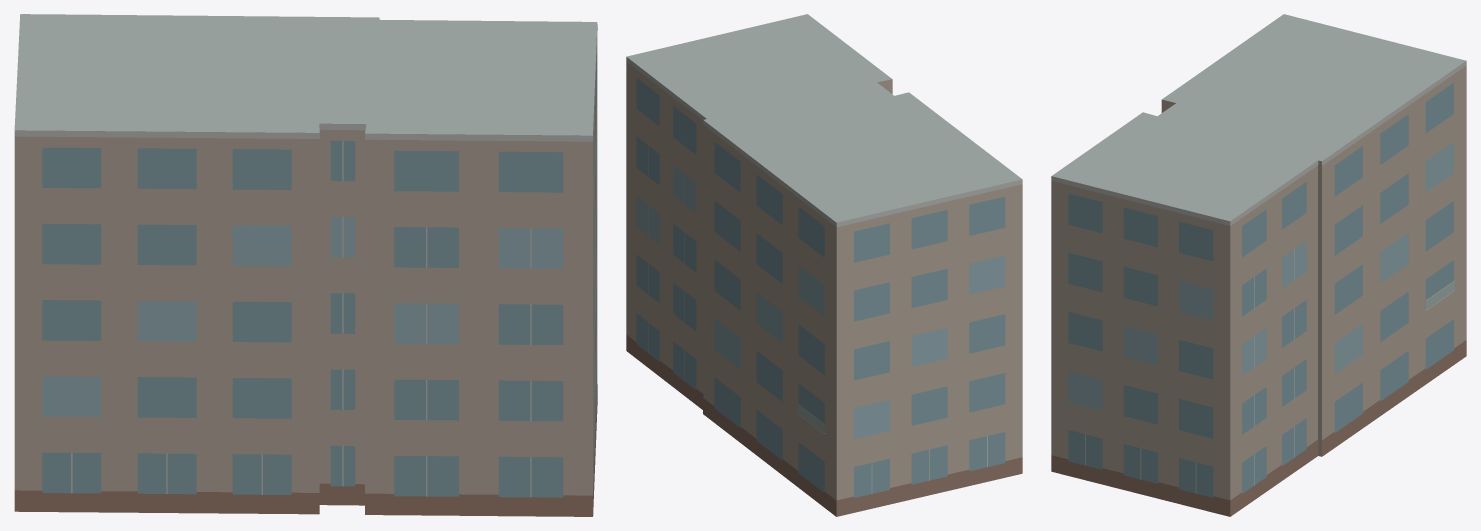
Rendered from survey-upis-33020294.glb.
3 renders of one model, left to right at view 1: azimuth 30°, elevation 25°; view 2: azimuth 150°, elevation 25°; view 3: azimuth 270°, elevation 25°, orthographic. The views are drawn at different scales.
Parts seen in each view (by area): view 1: survey-upis-33020294.tmp; view 2: survey-upis-33020294.tmp; view 3: survey-upis-33020294.tmp.
Part boxes in pixels (bbox=[...]): survey-upis-33020294.tmp: bbox=[14, 14, 597, 516]; survey-upis-33020294.tmp: bbox=[626, 14, 1022, 516]; survey-upis-33020294.tmp: bbox=[1051, 14, 1466, 516].
Size of the model in its own units: 22.96 by 15.25 by 19.42.
